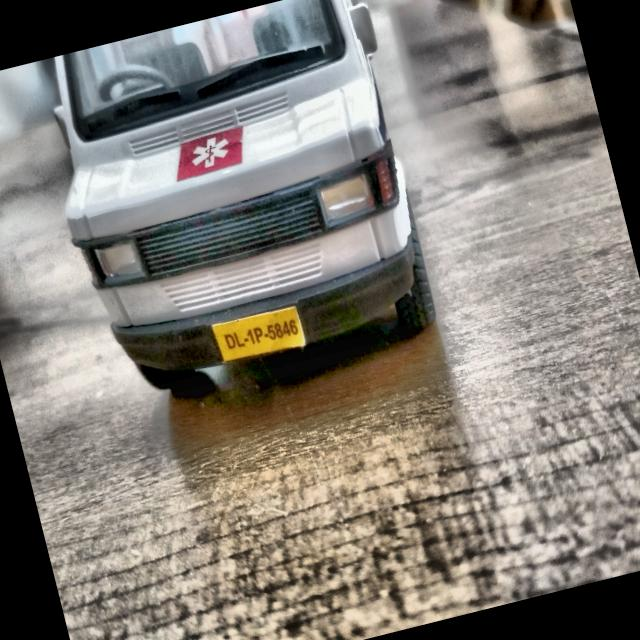Ambulance: (25, 0, 489, 436)
